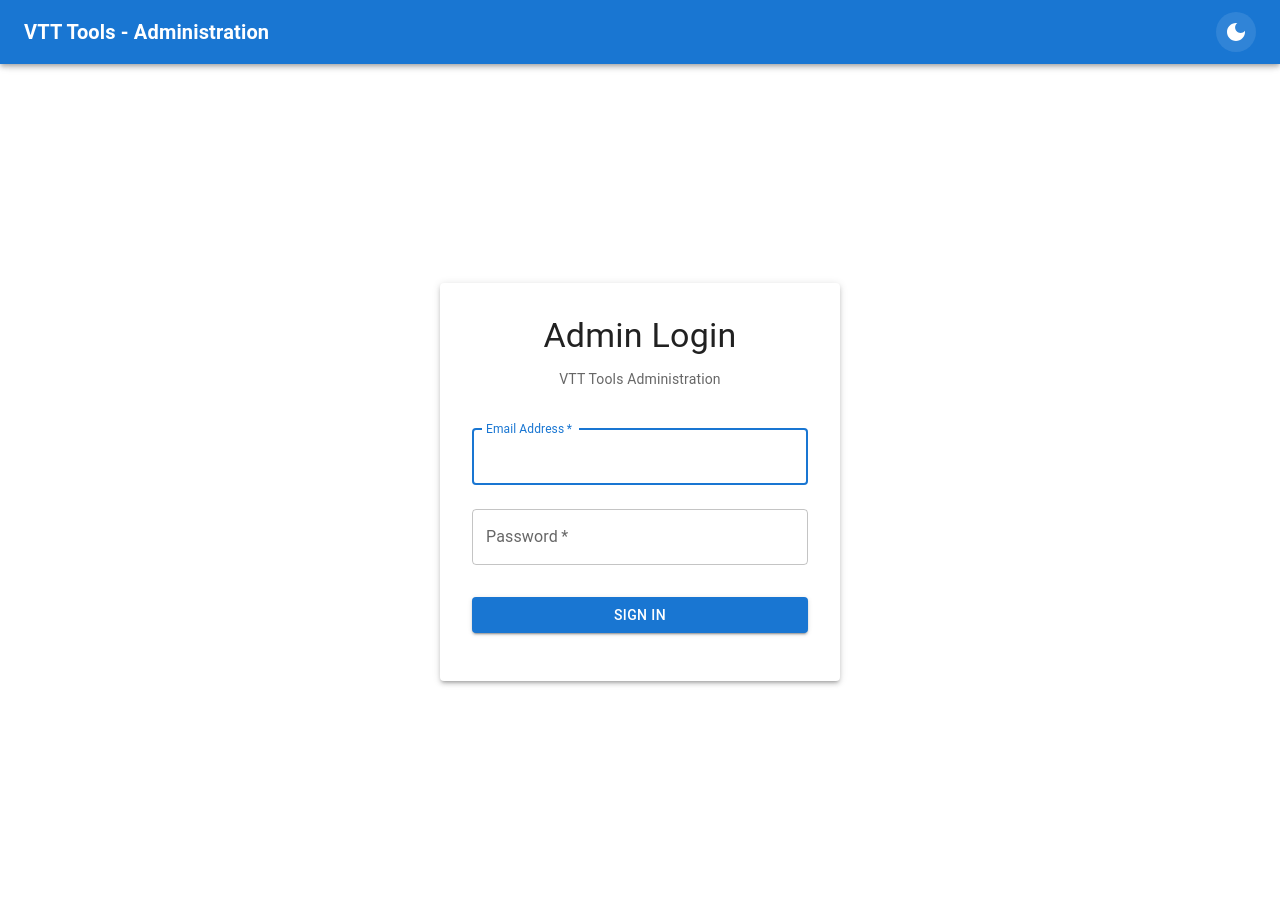
LoginPage › Password validation › should show validation error for password less than 12 characters
Type "short" into the password field labelled "Password *" at (640, 537), box top-left (472, 509), bottom-right (808, 565)
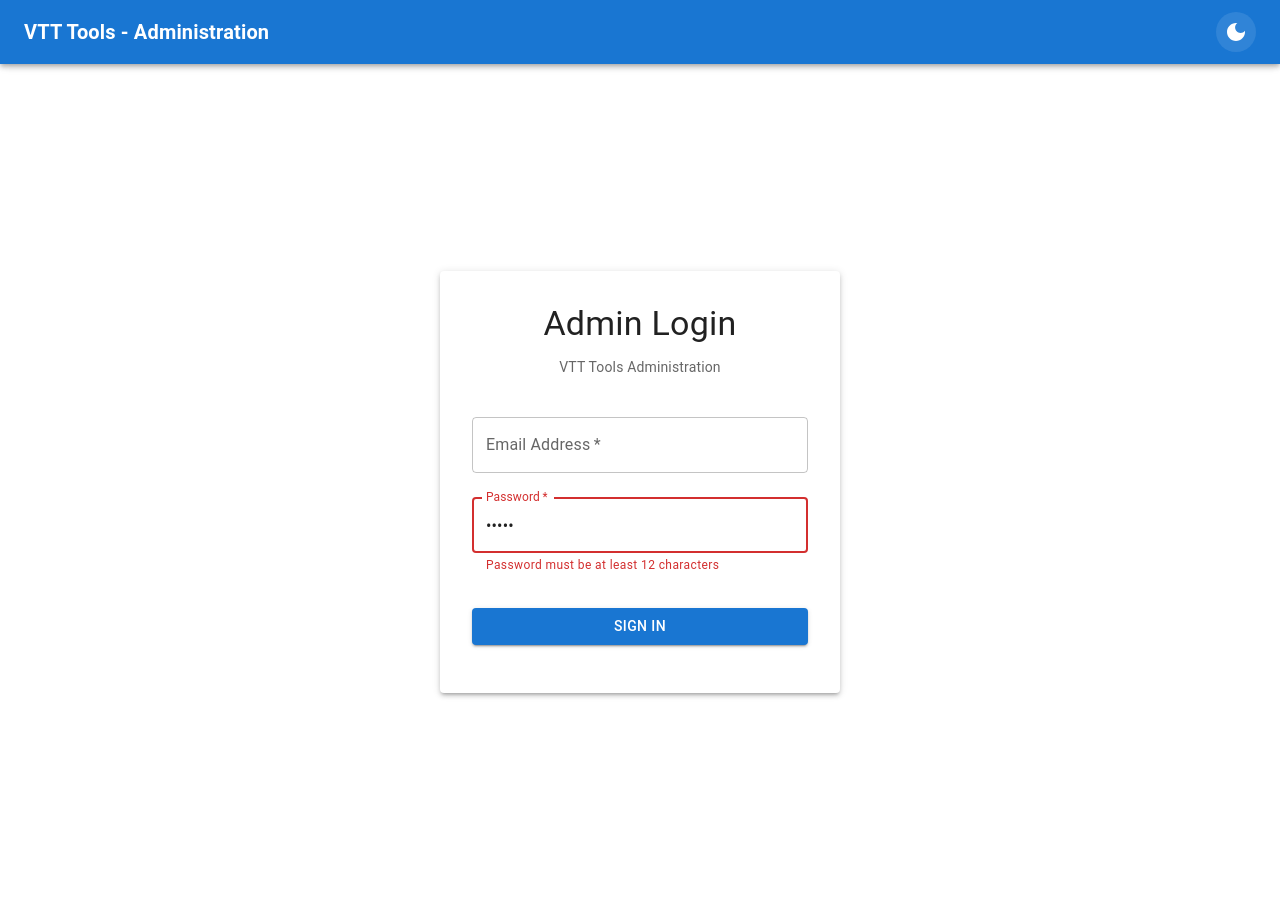
Check: the text "Password must be at least 12 characters" is shown, box top-left (486, 558), bottom-right (719, 572)
